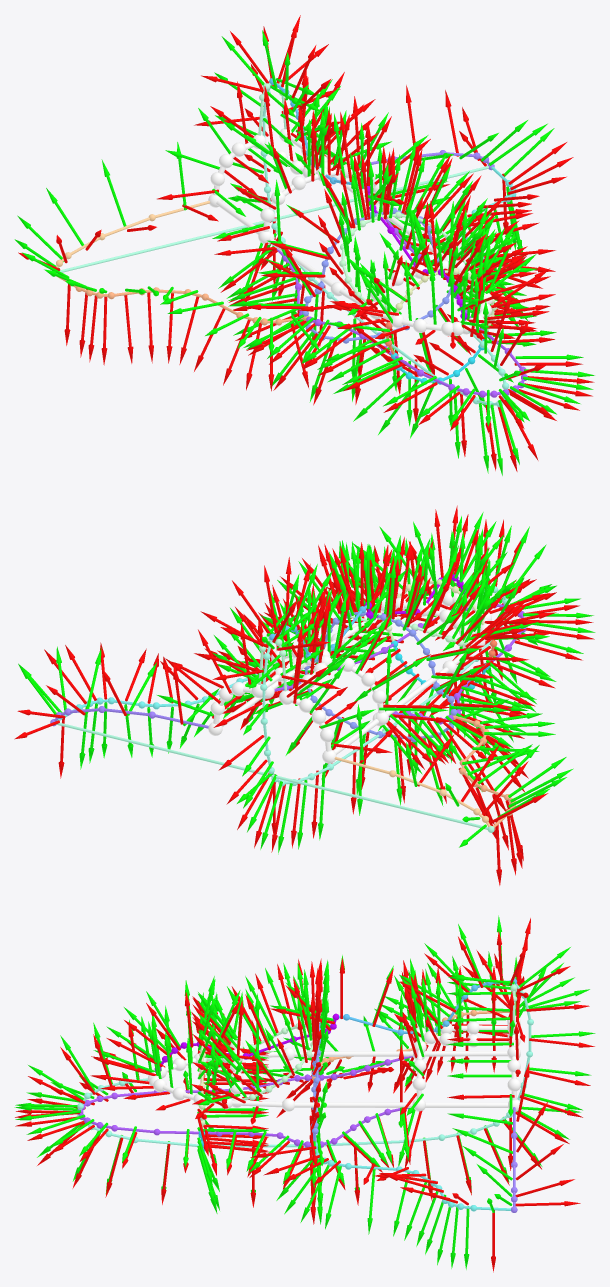
File: t2f_fighter.gltf
The picture shows the model from 3 angles, top to bottom: view 1: azimuth 30°, elevation 25°; view 2: azimuth 150°, elevation 25°; view 3: azimuth 270°, elevation 25°; orthographic projection. The views are drawn at different scales.
Size of the model in its own units: 0.8483 by 0.4638 by 0.8606.
